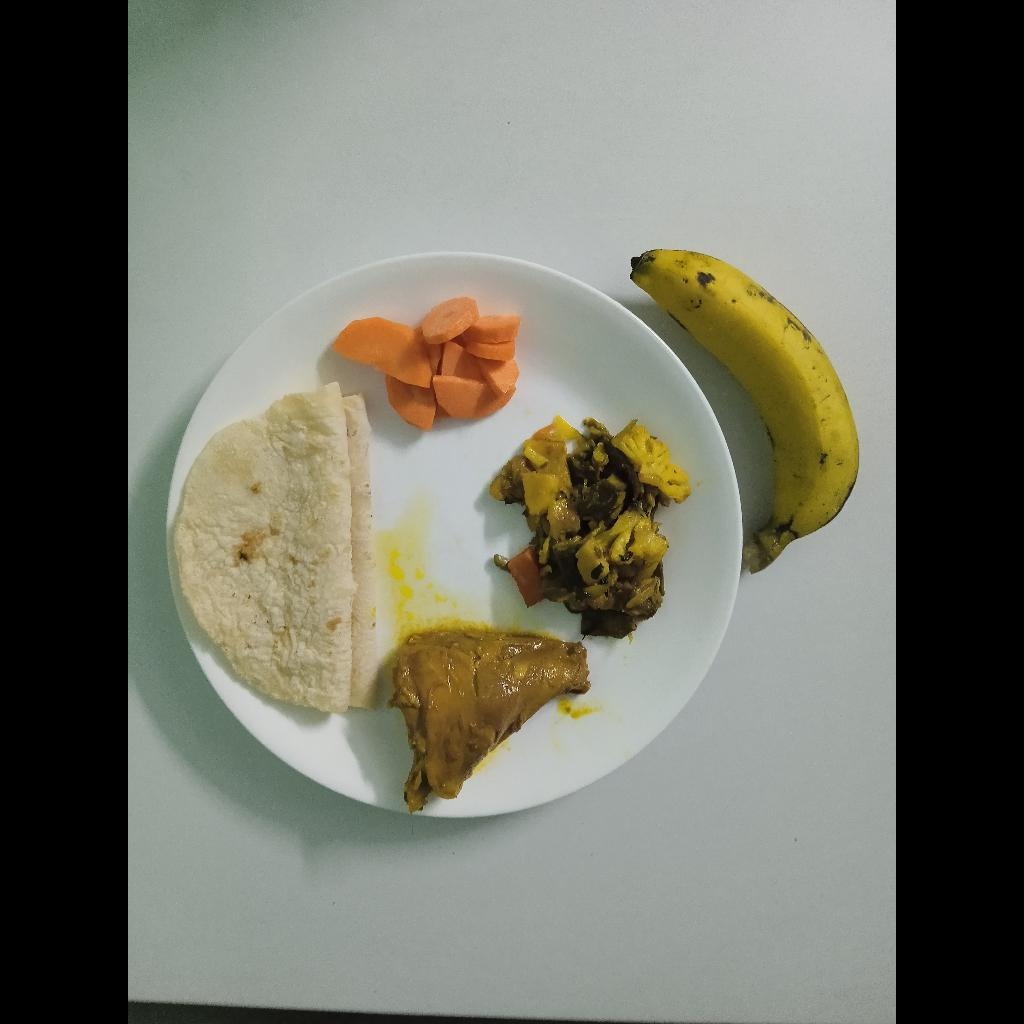banana: (629, 249, 861, 564)
carrot: (330, 297, 521, 432)
chicken: (389, 632, 592, 811)
ruti: (172, 383, 378, 713)
vegetable: (489, 416, 690, 640)
